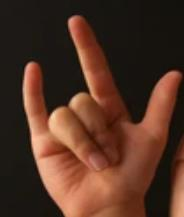back: (19, 11, 183, 195)
